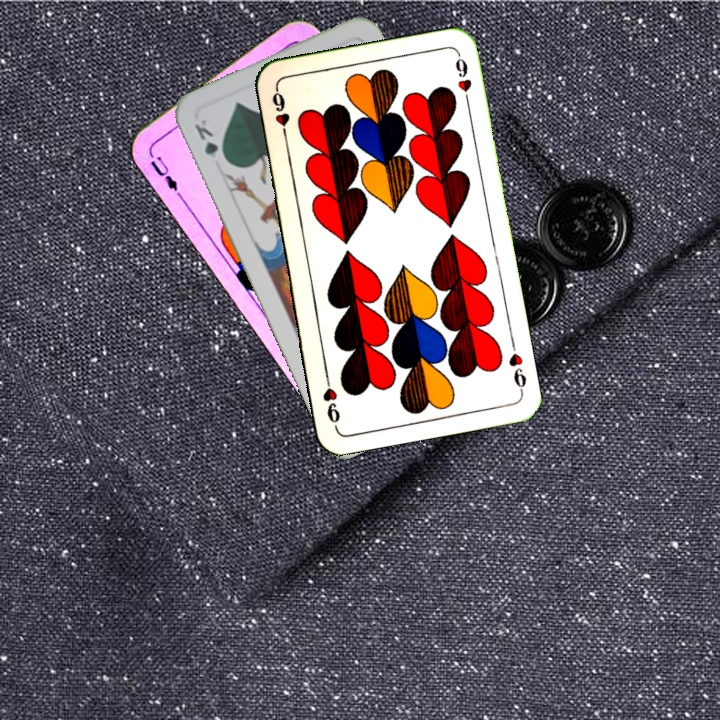EU: (145, 149, 185, 201)
GK: (190, 115, 231, 167)
H9: (268, 84, 292, 143), (505, 349, 529, 395)
